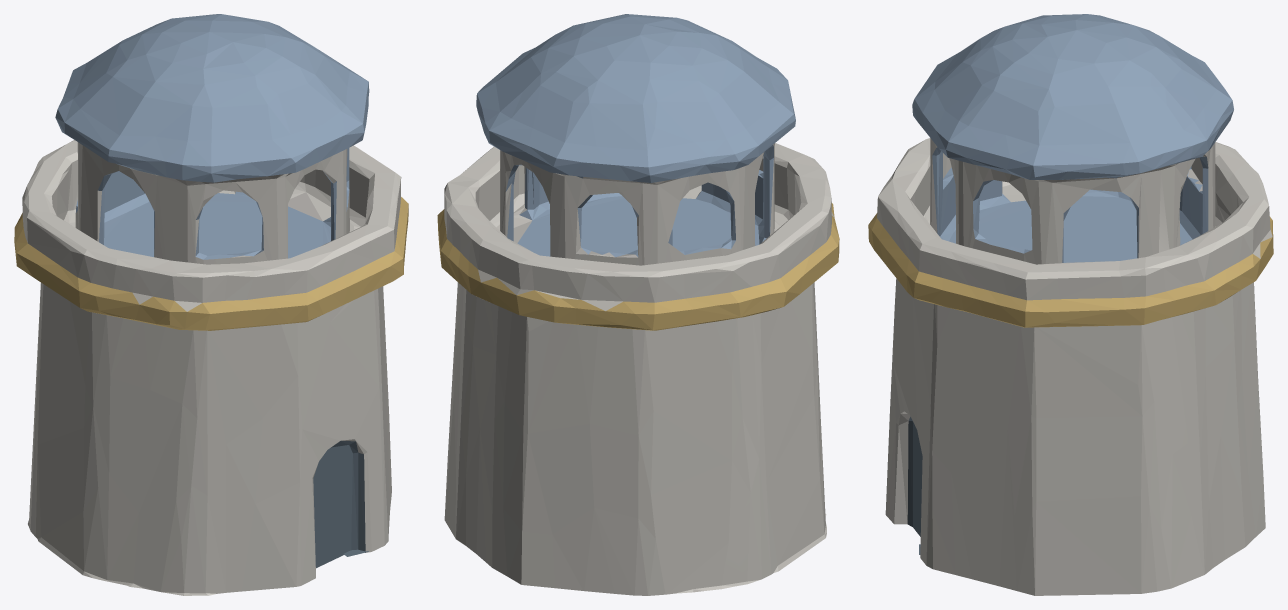
The picture shows the model from 3 angles, left to right: view 1: azimuth 30°, elevation 25°; view 2: azimuth 150°, elevation 25°; view 3: azimuth 270°, elevation 25°; orthographic projection.
Visible parts, largest first — view 1: geometry_0; view 2: geometry_0; view 3: geometry_0.
Boxes of the visible parts, x1,y1,x2,y2 form: geometry_0: (14, 14, 408, 595); geometry_0: (437, 14, 839, 595); geometry_0: (868, 14, 1273, 595).
Bounding box in the file's own units: 0.6953 × 0.9366 × 0.7073.
